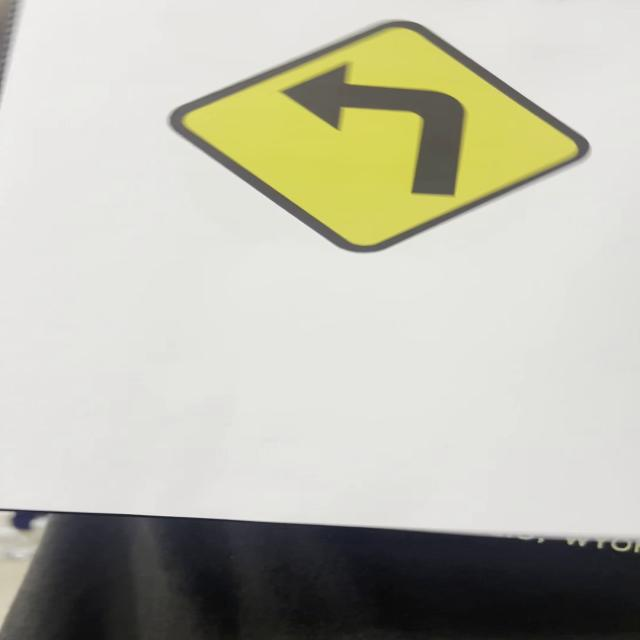left: (172, 19, 594, 254)
